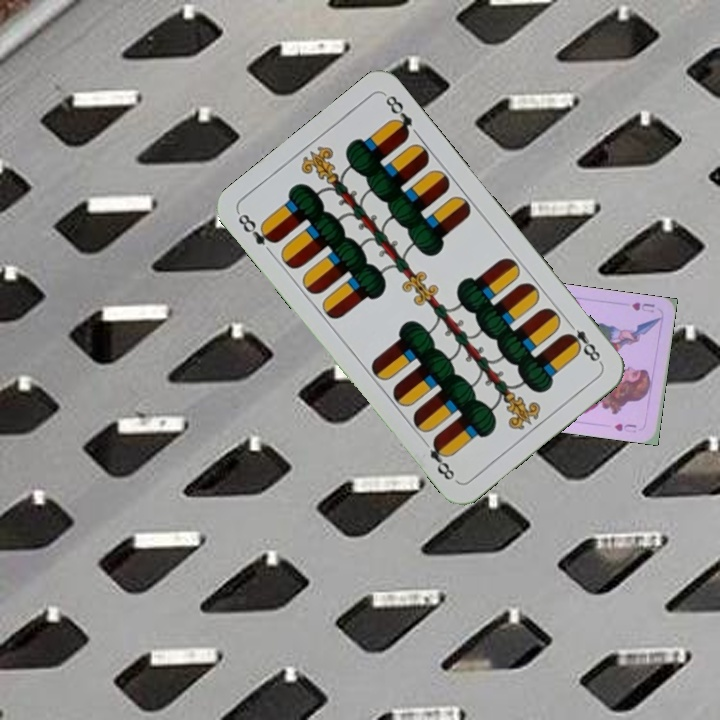E8: (561, 316, 604, 366), (233, 209, 280, 249)
HU: (628, 298, 658, 315)
